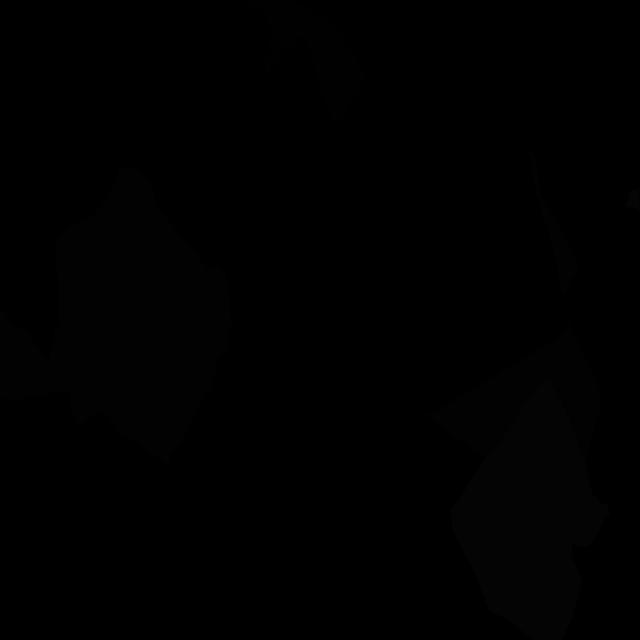cardboard: (53, 166, 232, 465), (0, 241, 173, 401), (426, 320, 602, 465), (528, 148, 578, 297)
rigid_plastic: (240, 0, 367, 124)
soft_plastic: (451, 380, 610, 640), (624, 186, 640, 211)
